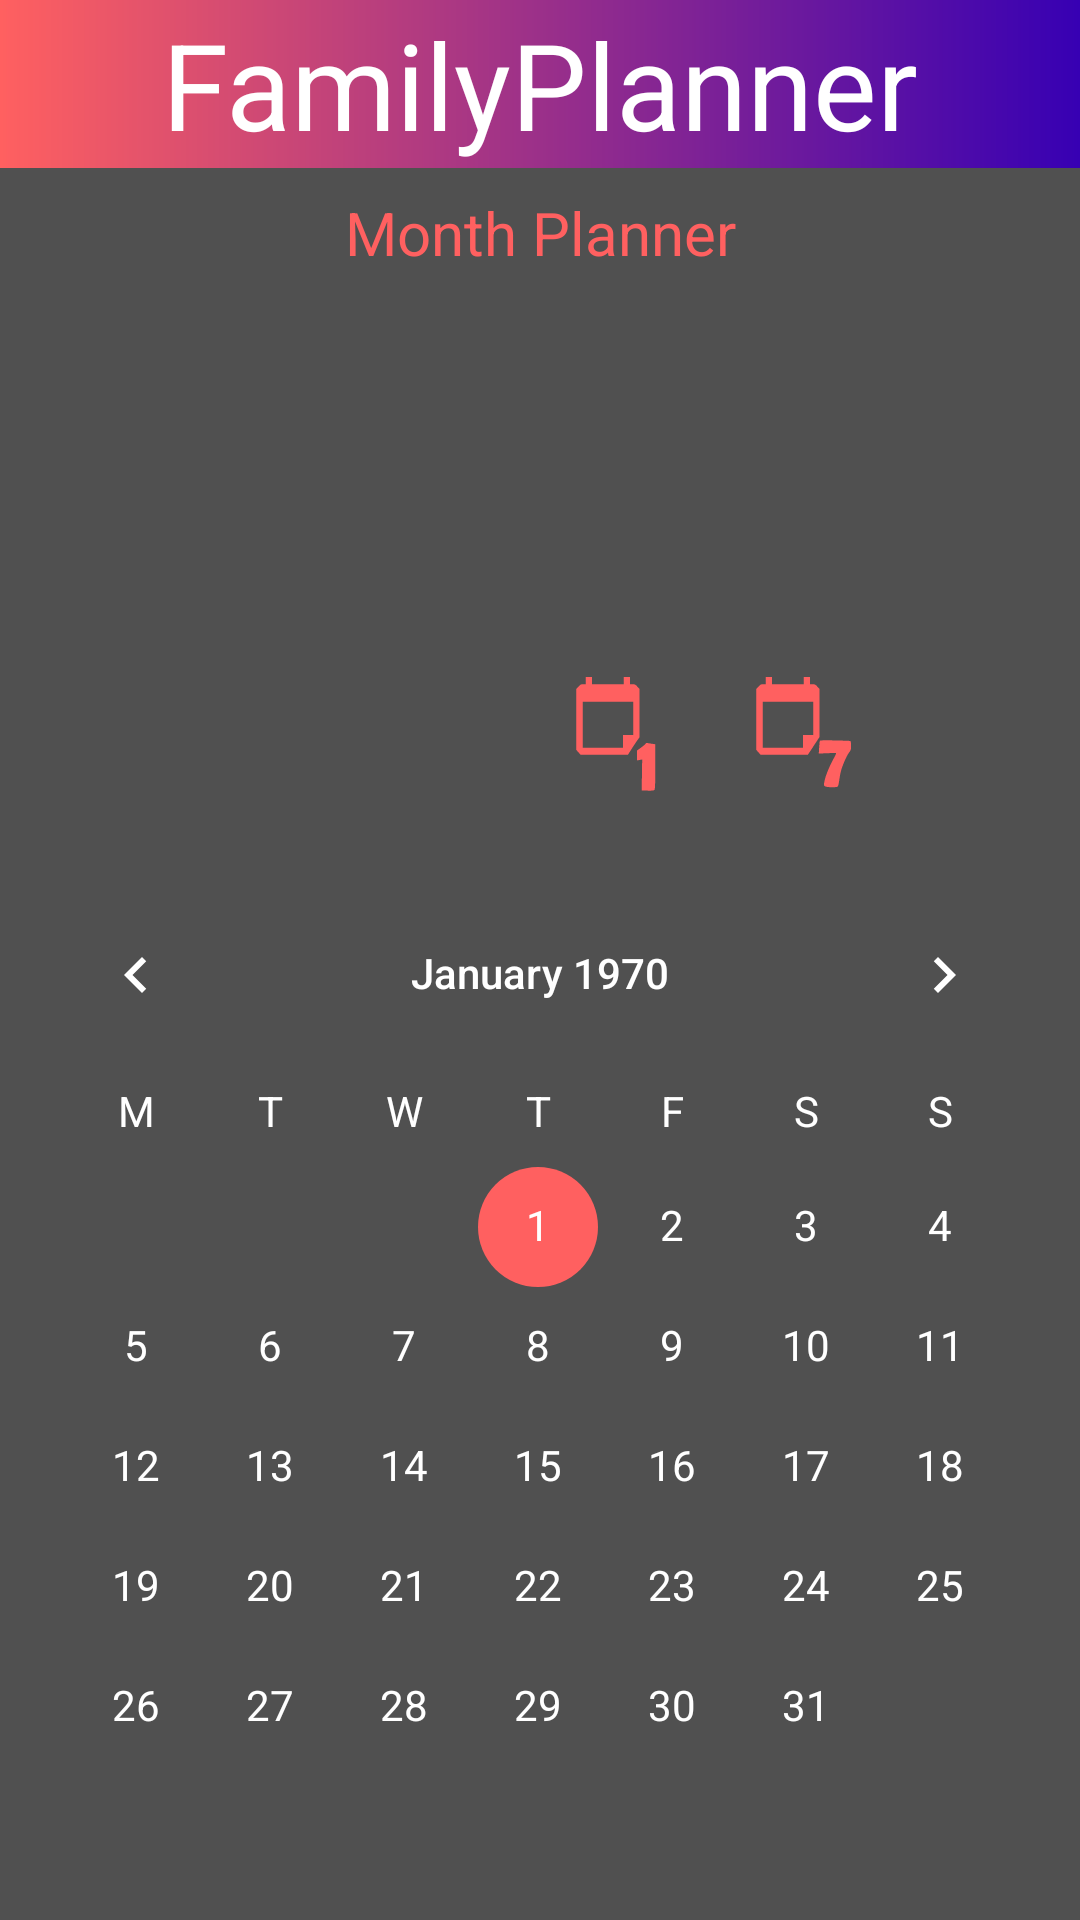

Screen size 1080×1920. Icon name, then its center in pixels as [x,y]:
Day Planner: [616,734]
Go To Week: [803,732]
